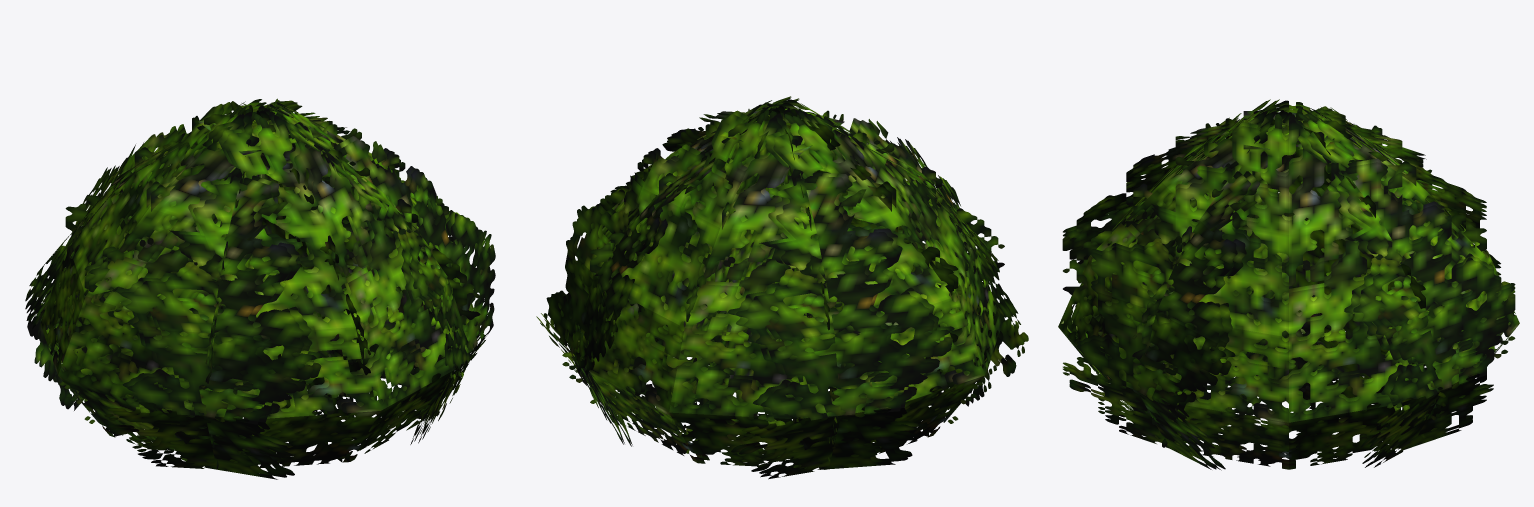
Rendered from dense_courtyard_hedge.glb.
3 renders of one model, left to right at view 1: azimuth 30°, elevation 25°; view 2: azimuth 150°, elevation 25°; view 3: azimuth 270°, elevation 25°, orthographic.
Visible parts, largest first — view 1: bush2; view 2: bush2; view 3: bush2.
Boxes of the visible parts, x1,y1,x2,y2 form: bush2: (25,98,495,479); bush2: (536,96,1028,479); bush2: (1058,99,1519,470).
Bounding box in the file's own units: 1.02 × 0.7 × 1.02.
1 material, 1 textured.
